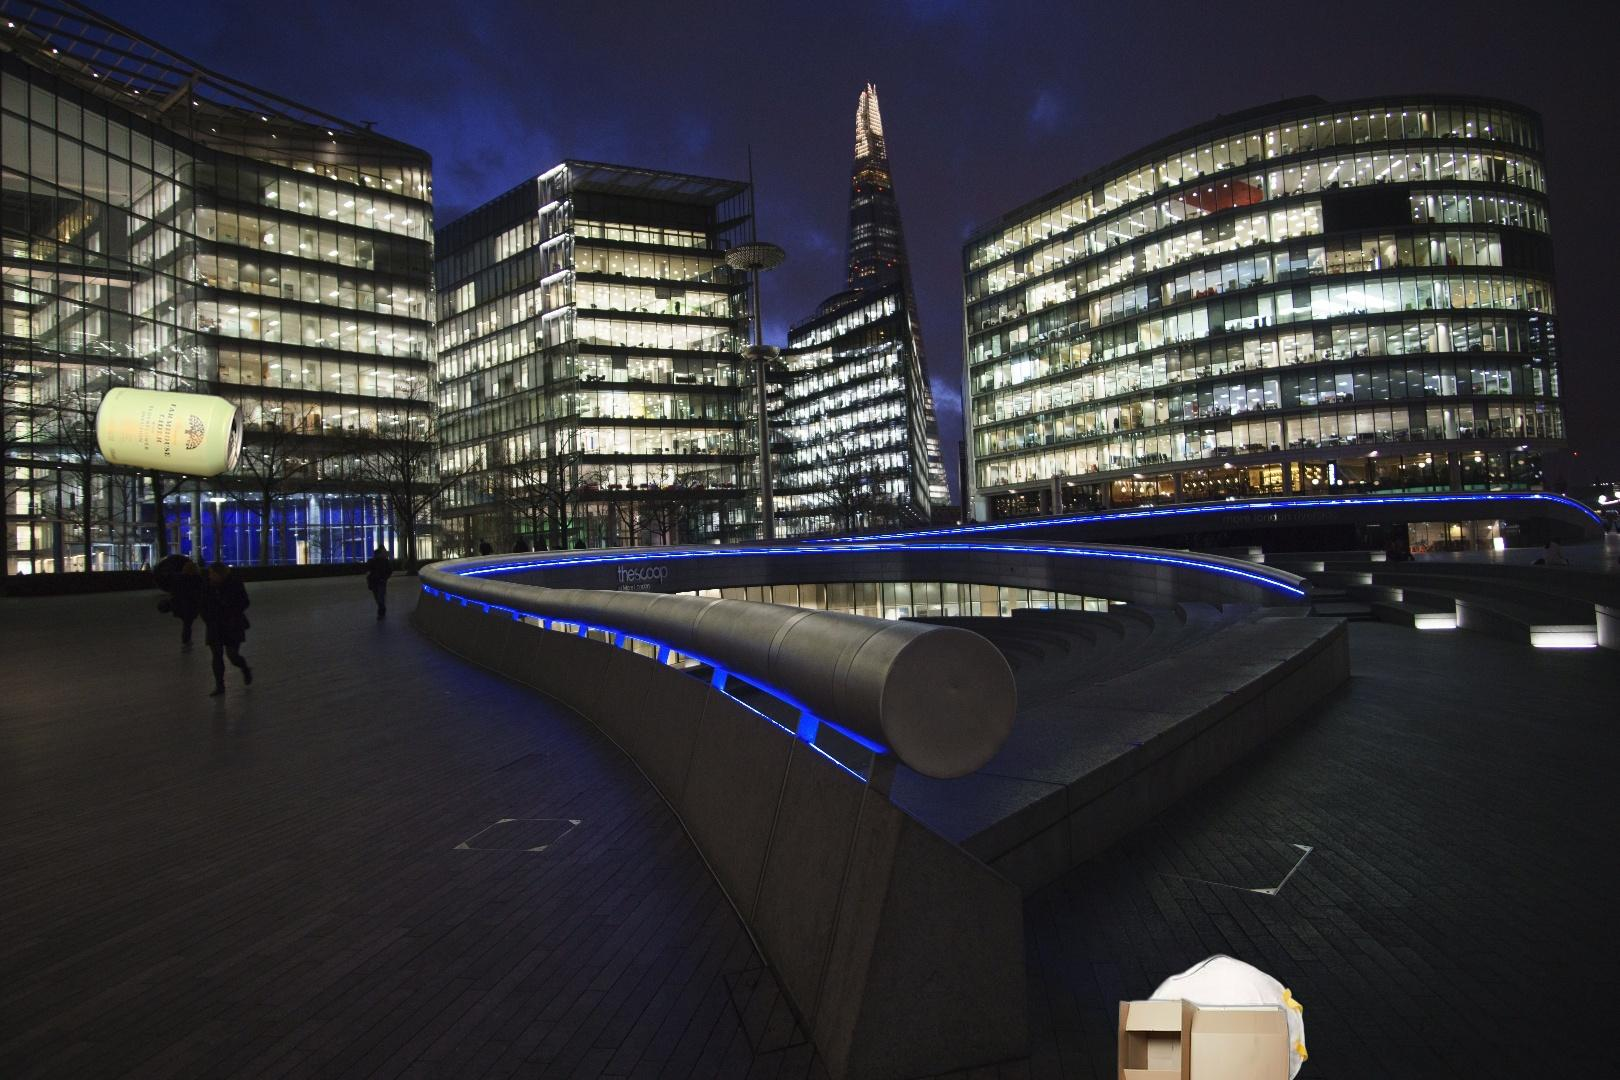metal-cans: (90, 380, 362, 485)
trash: (1126, 950, 1311, 1080)
trashbox-cardboard: (1076, 990, 1292, 1080)
